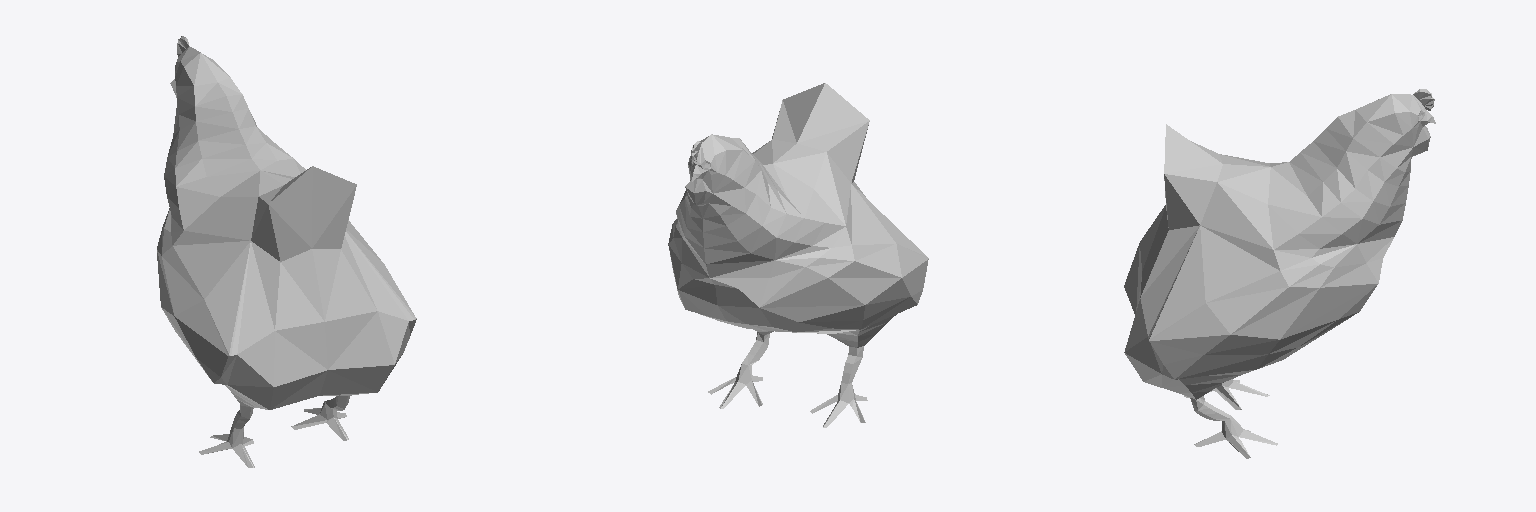
The model's file is frame5.obj.
3 renders of one model, left to right at view 1: azimuth 30°, elevation 25°; view 2: azimuth 150°, elevation 25°; view 3: azimuth 270°, elevation 25°, orthographic.
Parts seen in each view (by area): view 1: frame7:Chicken; view 2: frame7:Chicken; view 3: frame7:Chicken.
Part boxes in pixels (bbox=[...]): frame7:Chicken: bbox=[157, 36, 416, 467]; frame7:Chicken: bbox=[668, 83, 928, 427]; frame7:Chicken: bbox=[1124, 89, 1435, 458].
Bounding box in the file's own units: 2.14 × 3.17 × 2.69.